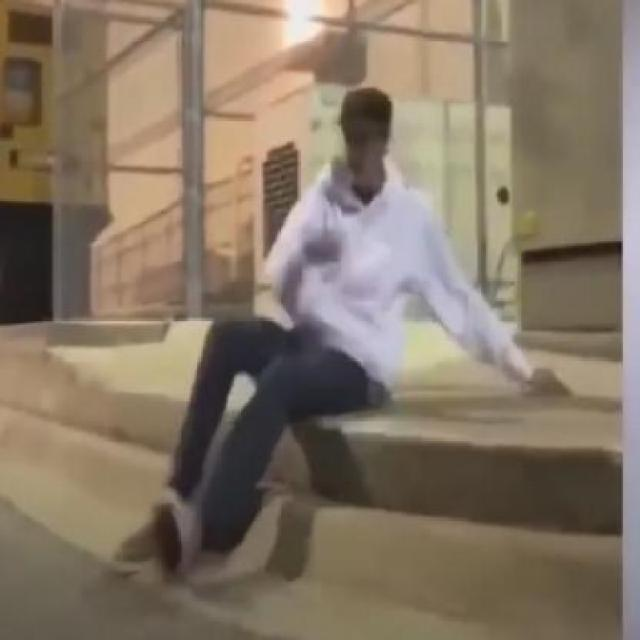fall: (119, 84, 573, 591)
